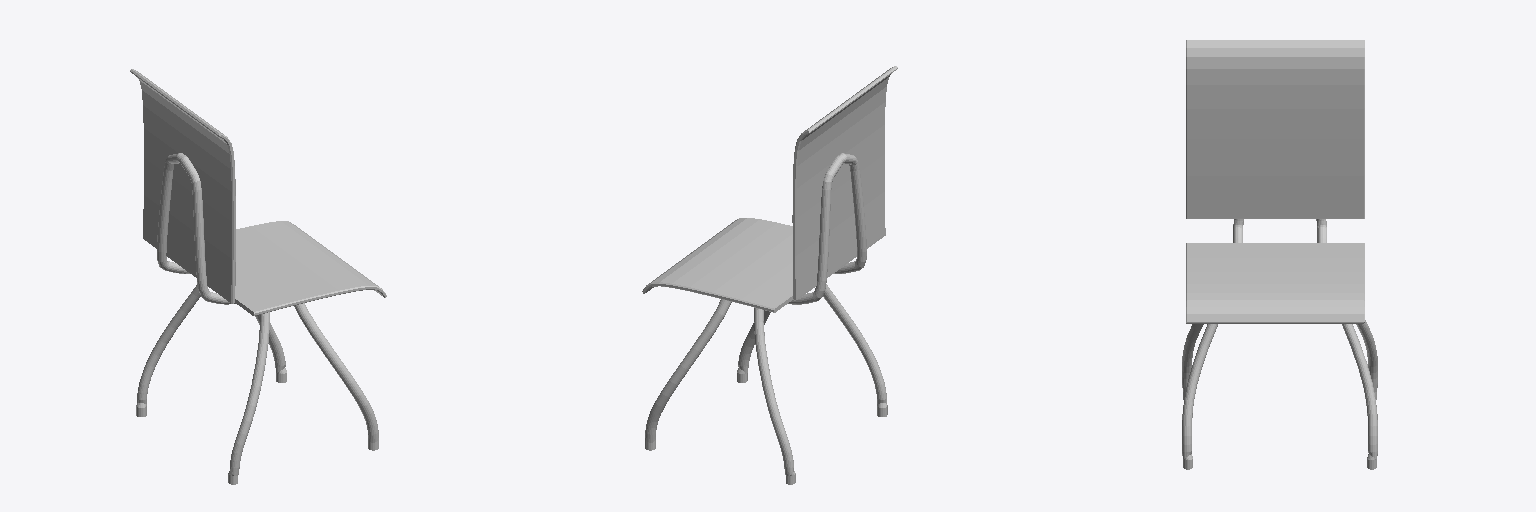
The model's file is BowlingPinChair2.obj.
3 views of the same model, side by side, from view 1: azimuth 30°, elevation 25°; view 2: azimuth 150°, elevation 25°; view 3: azimuth 270°, elevation 25° (orthographic).
Visible parts, largest first — view 1: polySurface3, polySurface1, polySurface2 Chair; view 2: polySurface3, polySurface1, polySurface2 Chair; view 3: polySurface3, polySurface1, polySurface2 Chair.
Boxes of the visible parts, box(x1,y1,x2,y2) form: polySurface3: box(130, 69, 386, 315); polySurface1: box(136, 153, 378, 484); polySurface2 Chair: box(255, 315, 286, 382); polySurface3: box(642, 66, 897, 312); polySurface1: box(737, 153, 887, 484); polySurface2 Chair: box(645, 299, 731, 450); polySurface3: box(1186, 40, 1364, 323); polySurface1: box(1182, 219, 1377, 469); polySurface2 Chair: box(1342, 324, 1377, 469).
Bounding box in the file's own units: 2.11 × 4.25 × 2.14.